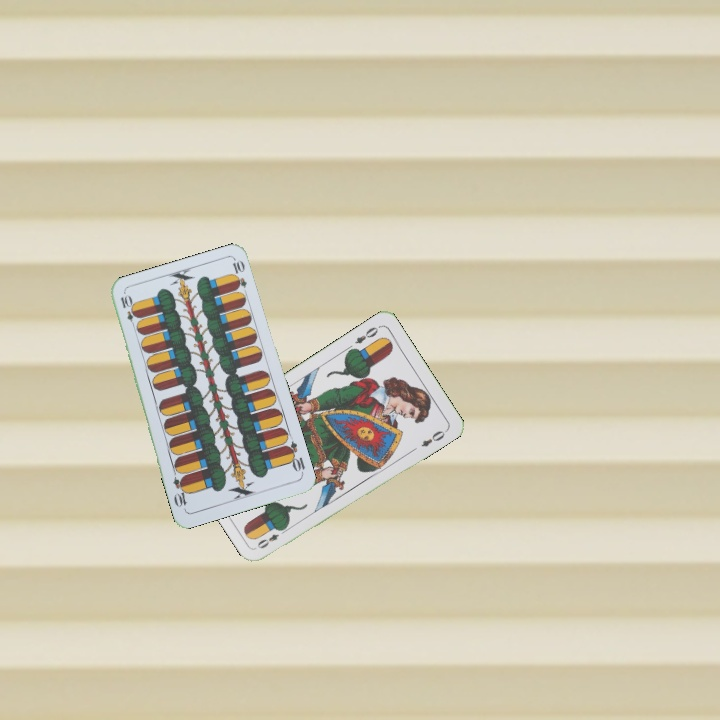E10: (281, 437, 308, 477), (116, 291, 139, 331)
EO: (253, 524, 290, 551), (351, 322, 383, 346)
